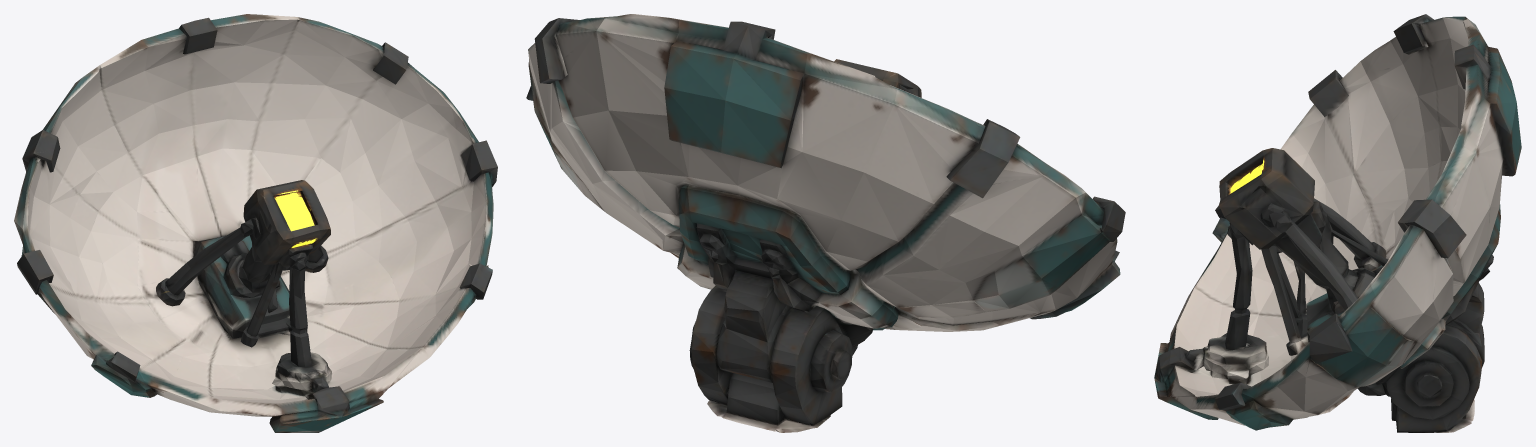
The model's file is console_c2_head.fbx.
The picture shows the model from 3 angles, left to right: view 1: azimuth 30°, elevation 25°; view 2: azimuth 150°, elevation 25°; view 3: azimuth 270°, elevation 25°; orthographic projection. The views are drawn at different scales.
Parts seen in each view (by area): view 1: console_c2_head; view 2: console_c2_head; view 3: console_c2_head.
Boxes of the visible parts, x1=… form: console_c2_head: x1=14, y1=14, x2=497, y2=432; console_c2_head: x1=526, y1=14, x2=1125, y2=432; console_c2_head: x1=1154, y1=14, x2=1521, y2=432.
Size of the model in its own units: 1.24 by 0.8191 by 0.7621.
2 materials, 1 textured.
